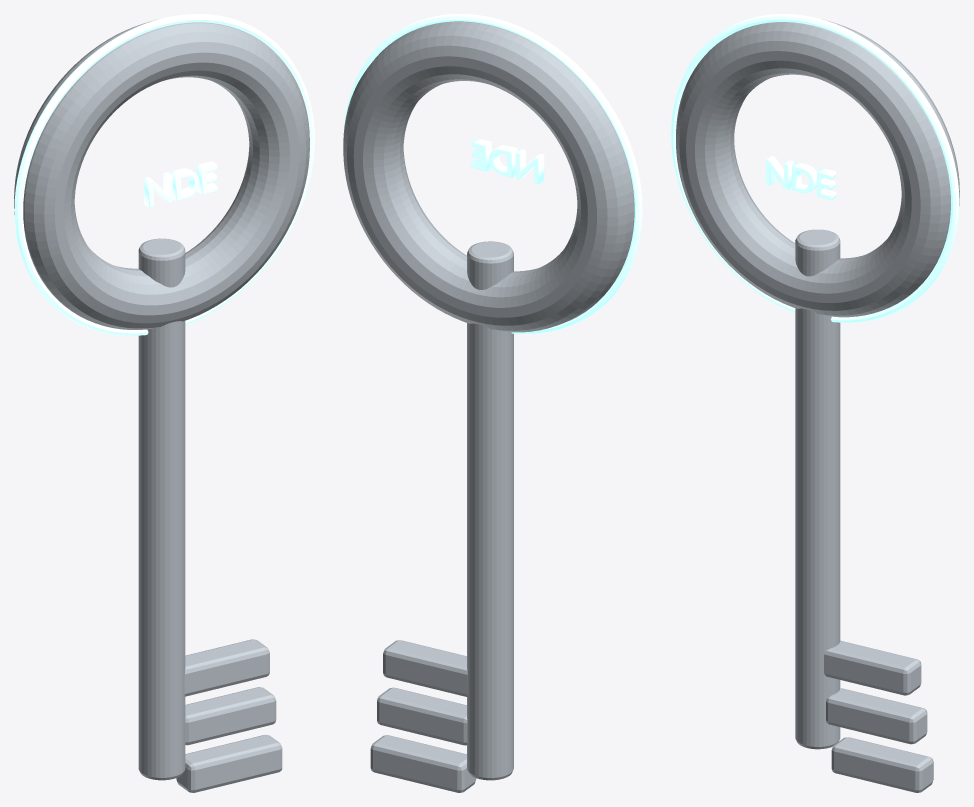
Rendered from key.glb.
3 renders of one model, left to right at view 1: azimuth 30°, elevation 25°; view 2: azimuth 150°, elevation 25°; view 3: azimuth 330°, elevation 25°, orthographic. The views are drawn at different scales.
Parts seen in each view (by area): view 1: key_head, key_shaft, key_ring_glow, key_tooth_3, key_tooth_2, key_tooth_1, key_glyph; view 2: key_head, key_shaft, key_ring_glow, key_tooth_3, key_tooth_2, key_tooth_1, key_glyph; view 3: key_head, key_shaft, key_ring_glow, key_tooth_3, key_tooth_2, key_tooth_1, key_glyph.
Part boxes in pixels (<box>): key_head: <box>14,19,309,329</box>; key_shaft: <box>138,238,185,780</box>; key_ring_glow: <box>14,14,314,335</box>; key_tooth_3: <box>176,735,282,792</box>; key_tooth_2: <box>185,687,276,745</box>; key_tooth_1: <box>184,639,269,696</box>; key_glyph: <box>144,161,217,207</box>; key_head: <box>343,21,634,332</box>; key_shaft: <box>467,241,513,780</box>; key_ring_glow: <box>344,14,642,334</box>; key_tooth_3: <box>370,735,476,792</box>; key_tooth_2: <box>377,687,467,745</box>; key_tooth_1: <box>383,640,467,696</box>; key_glyph: <box>471,138,544,184</box>; key_head: <box>676,19,959,317</box>; key_shaft: <box>795,229,840,749</box>; key_ring_glow: <box>671,14,959,322</box>; key_tooth_3: <box>831,737,933,792</box>; key_tooth_2: <box>826,688,927,744</box>; key_tooth_1: <box>824,640,921,695</box>; key_glyph: <box>766,155,836,200</box>.
Bounding box in the file's own units: 1.91 × 4.75 × 0.3984.
